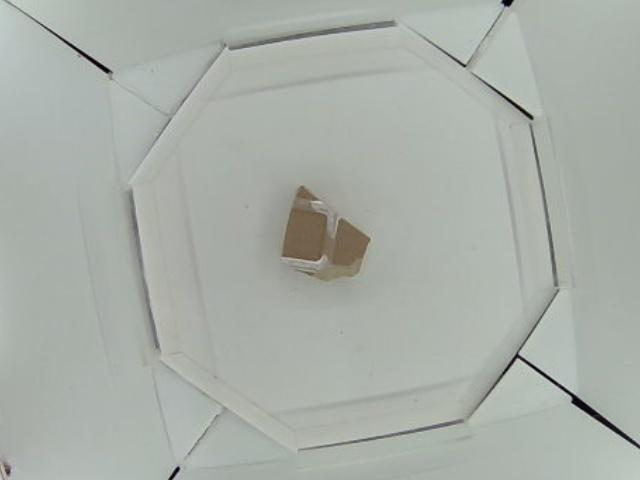China: (282, 188, 373, 283)
